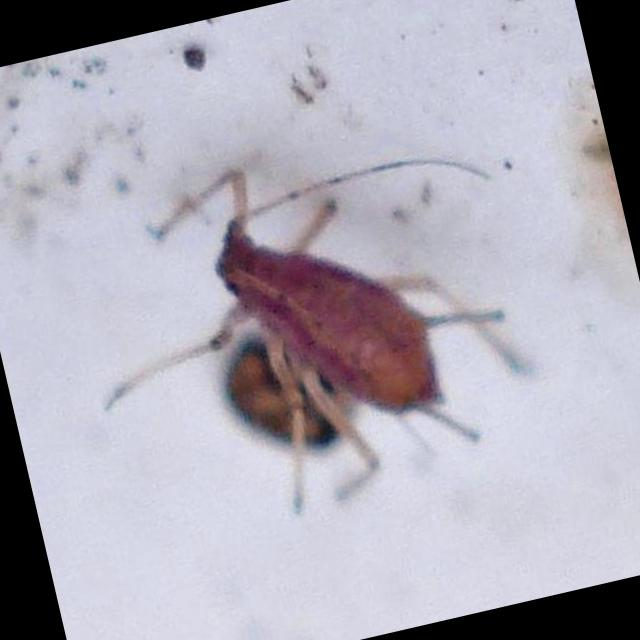aphid: (107, 104, 544, 520)
